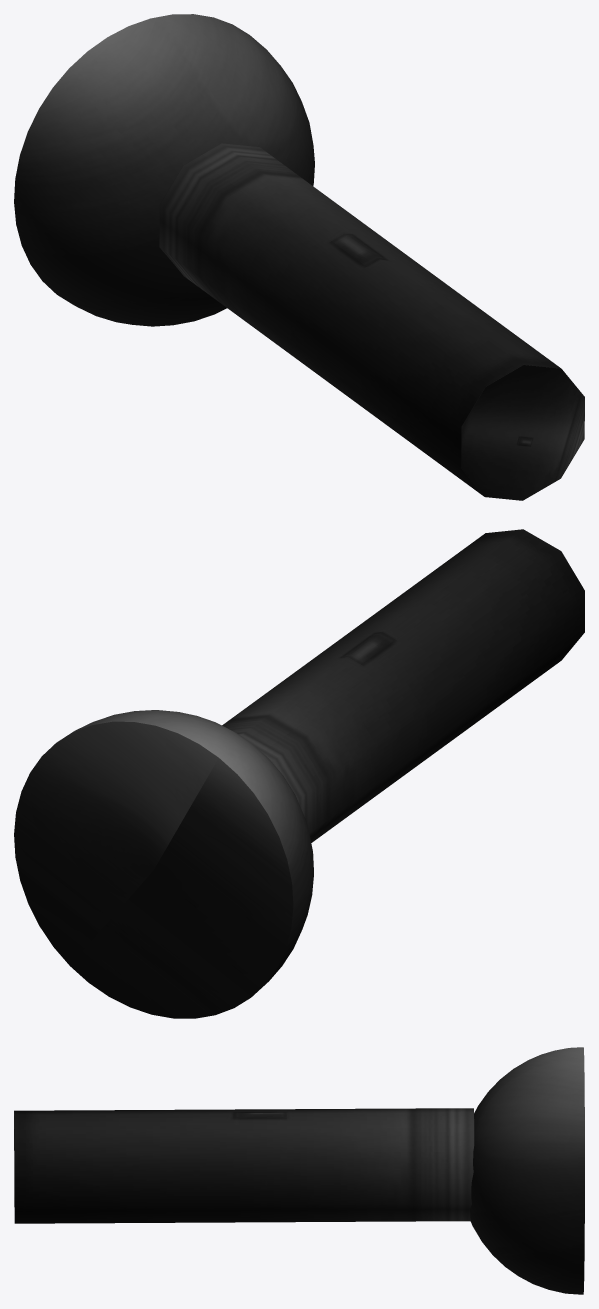
File: flashlight.FBX
3 renders of one model, top to bottom at view 1: azimuth 30°, elevation 25°; view 2: azimuth 150°, elevation 25°; view 3: azimuth 270°, elevation 25°, orthographic. The views are drawn at different scales.
Visible parts, largest first — view 1: Cylinder01, GeoSphere01; view 2: GeoSphere01, Cylinder01; view 3: Cylinder01, GeoSphere01.
Boxes of the visible parts, x1=… form: Cylinder01: x1=159, y1=143, x2=584, y2=500; GeoSphere01: x1=14, y1=14, x2=314, y2=326; GeoSphere01: x1=14, y1=710, x2=313, y2=1018; Cylinder01: x1=222, y1=529, x2=584, y2=842; Cylinder01: x1=14, y1=1108, x2=474, y2=1223; GeoSphere01: x1=470, y1=1047, x2=584, y2=1294.
Size of the model in its own units: 43.12 by 43.12 by 99.29.
2 materials, 2 textured.
